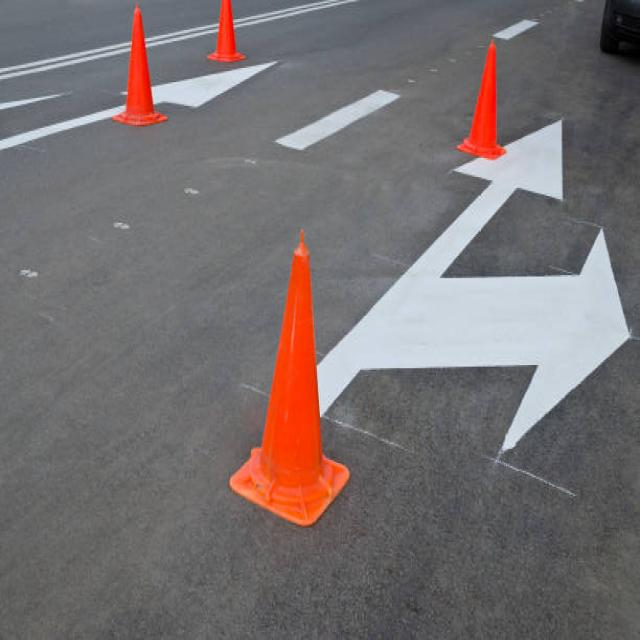Traffic Cone: (222, 220, 357, 538), (108, 4, 178, 142), (454, 20, 507, 168)
